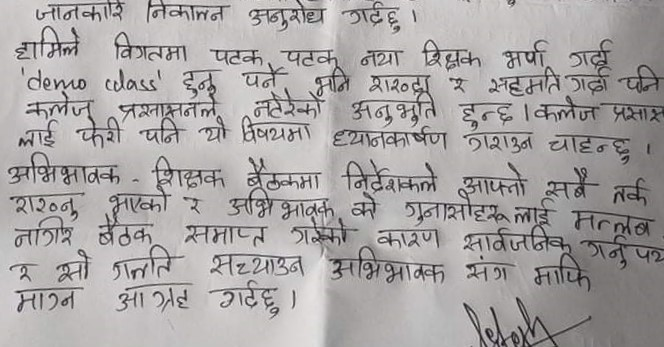text: (327, 244, 446, 286), (7, 151, 123, 190), (340, 155, 438, 196), (329, 122, 448, 154), (225, 188, 335, 221), (458, 226, 575, 255), (403, 196, 510, 227), (108, 30, 192, 67), (347, 94, 437, 128), (546, 129, 632, 164), (241, 153, 322, 190), (214, 279, 284, 321), (583, 232, 664, 268), (179, 217, 266, 250), (114, 277, 193, 313), (206, 250, 307, 278), (148, 154, 227, 189), (461, 160, 530, 199), (116, 93, 219, 119), (13, 24, 81, 61), (531, 253, 592, 293), (486, 68, 562, 99), (569, 207, 653, 235), (251, 88, 322, 121), (238, 116, 313, 147), (421, 36, 482, 73), (8, 218, 78, 250), (245, 5, 327, 32), (7, 191, 80, 220), (142, 2, 226, 27), (344, 2, 404, 37), (32, 1, 125, 23), (111, 247, 172, 280), (458, 98, 516, 132), (22, 91, 92, 119), (532, 96, 601, 124), (461, 131, 537, 156), (374, 224, 441, 252), (96, 218, 156, 249), (11, 285, 77, 313), (108, 186, 169, 215), (366, 69, 432, 94), (543, 166, 593, 199), (291, 222, 352, 248), (567, 37, 619, 67), (77, 117, 125, 149), (207, 44, 267, 69), (619, 63, 664, 96), (501, 38, 547, 70), (284, 43, 340, 69), (52, 248, 92, 283), (463, 255, 510, 283), (139, 117, 181, 147), (179, 68, 219, 98), (565, 67, 611, 93), (610, 177, 648, 208), (312, 68, 353, 96), (18, 120, 59, 147), (358, 45, 404, 69), (513, 200, 553, 226), (346, 192, 379, 223), (240, 68, 280, 91), (197, 118, 228, 145), (11, 261, 35, 285), (181, 193, 205, 215), (445, 74, 468, 94)
